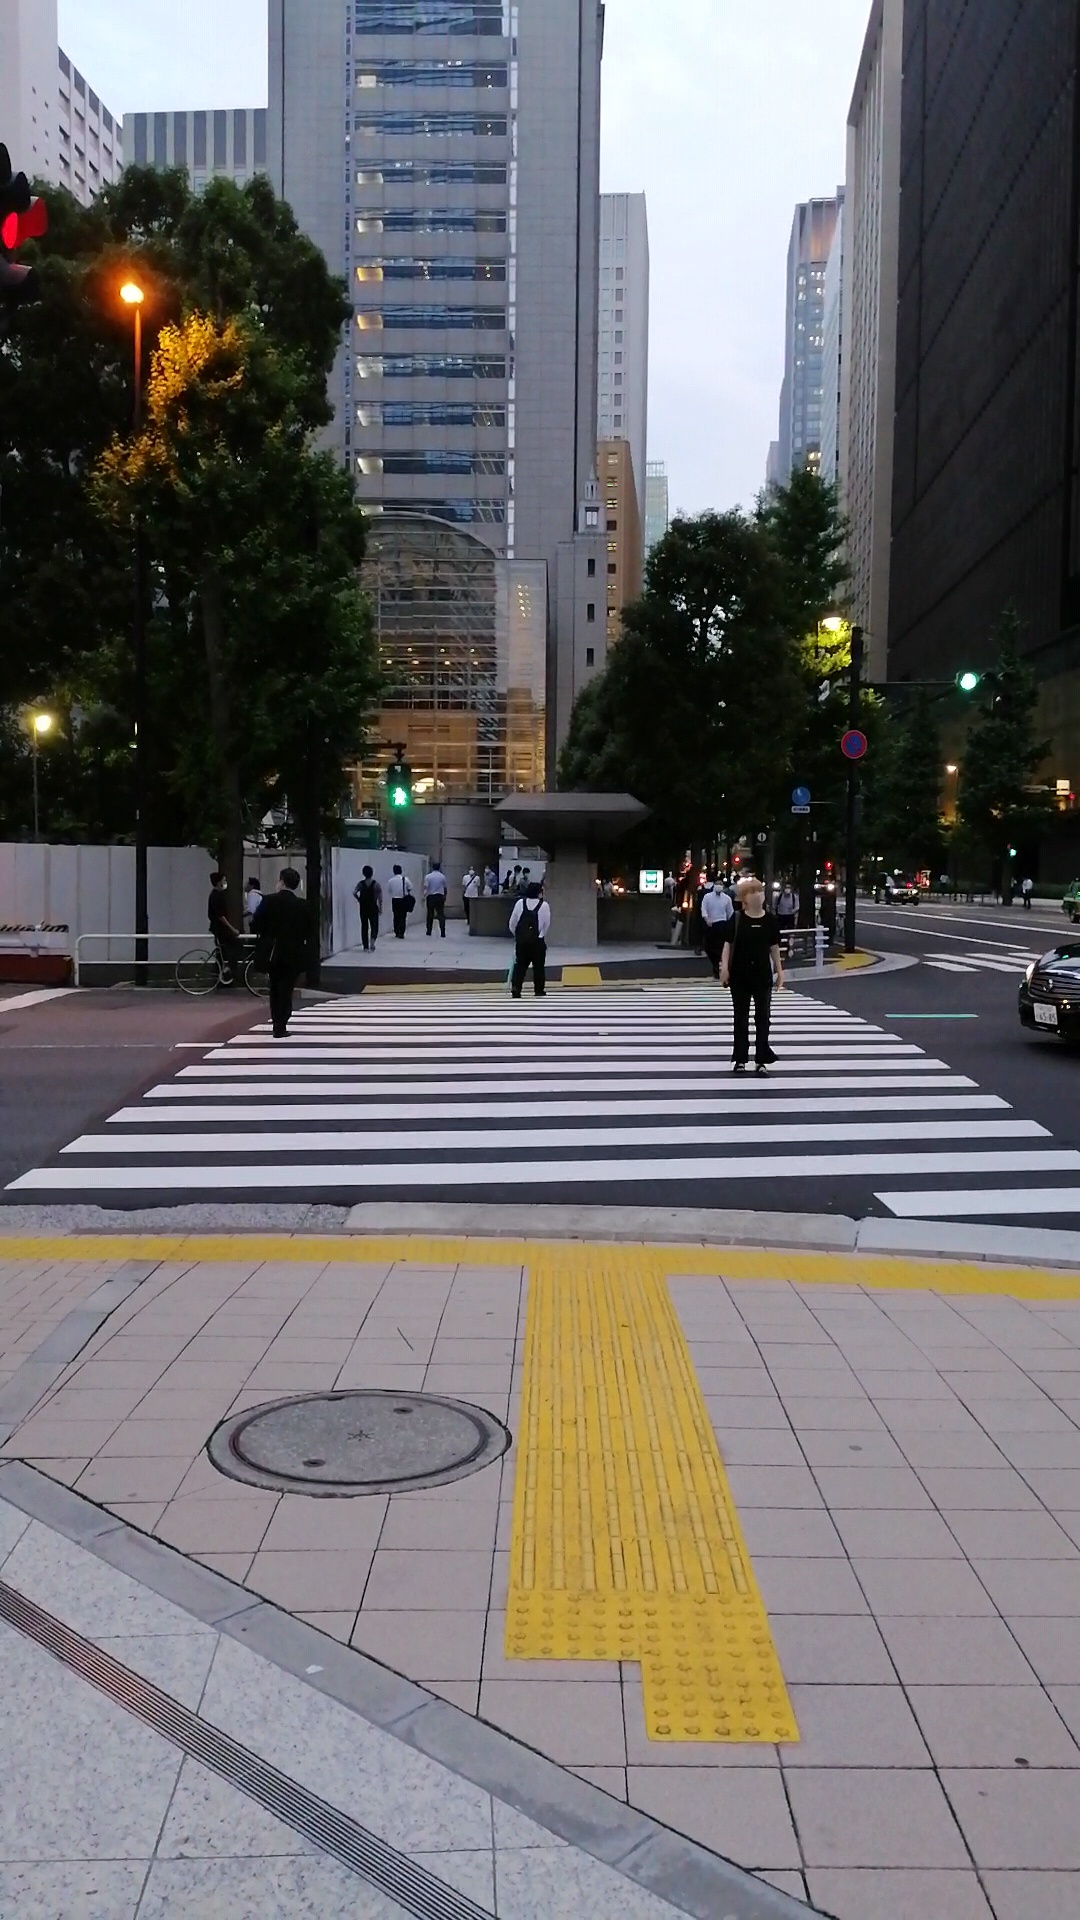green: (385, 762, 413, 812)
